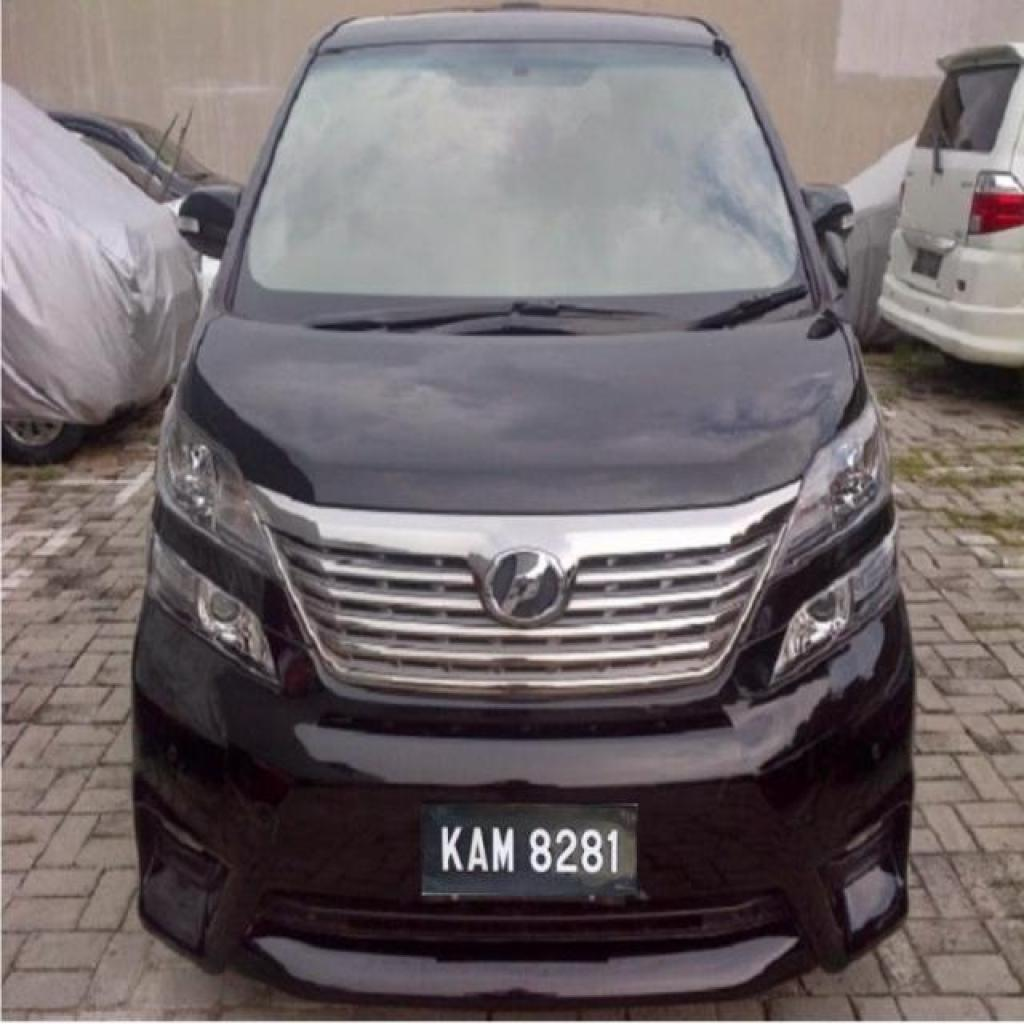car: (133, 6, 910, 1003)
car plate: (422, 805, 634, 896)
